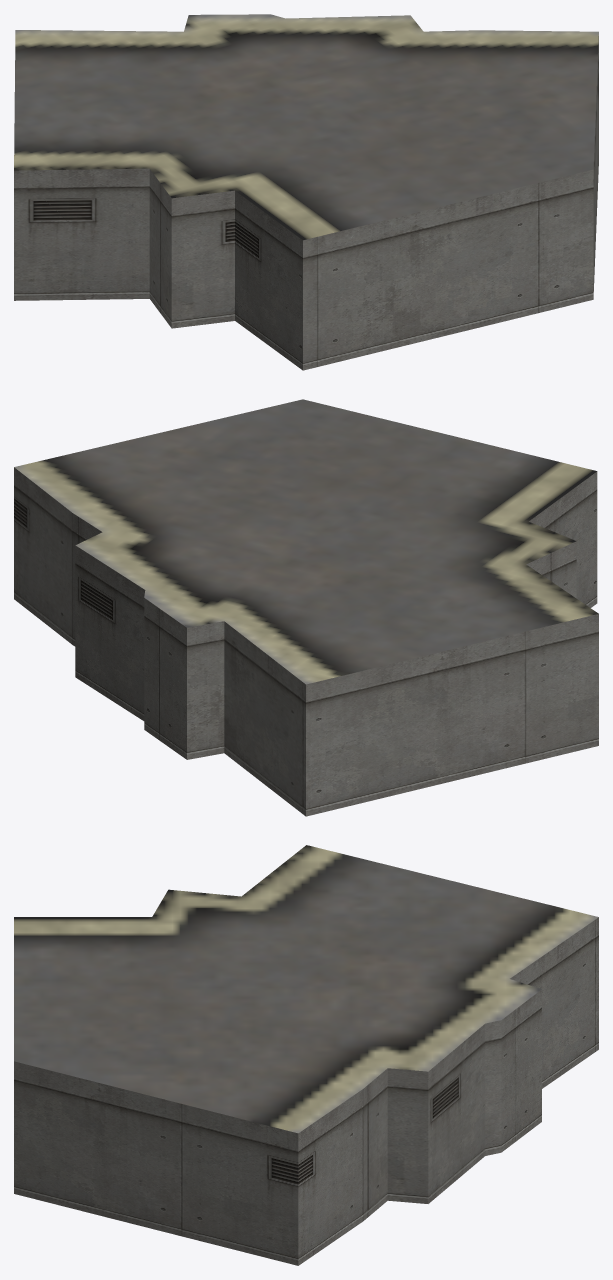
File: building_medium_44.glb
The picture shows the model from 3 angles, top to bottom: view 1: azimuth 30°, elevation 25°; view 2: azimuth 150°, elevation 25°; view 3: azimuth 270°, elevation 25°; orthographic projection.
Visible parts, largest first — view 1: buildings/saxarba/building_medium/building_medium_44; view 2: buildings/saxarba/building_medium/building_medium_44; view 3: buildings/saxarba/building_medium/building_medium_44.
Part boxes in pixels (x1,y1,x2,y2): buildings/saxarba/building_medium/building_medium_44: (14,14,598,370); buildings/saxarba/building_medium/building_medium_44: (14,399,598,816); buildings/saxarba/building_medium/building_medium_44: (14,845,598,1265).
Size of the model in its own units: 84 by 18 by 72.
